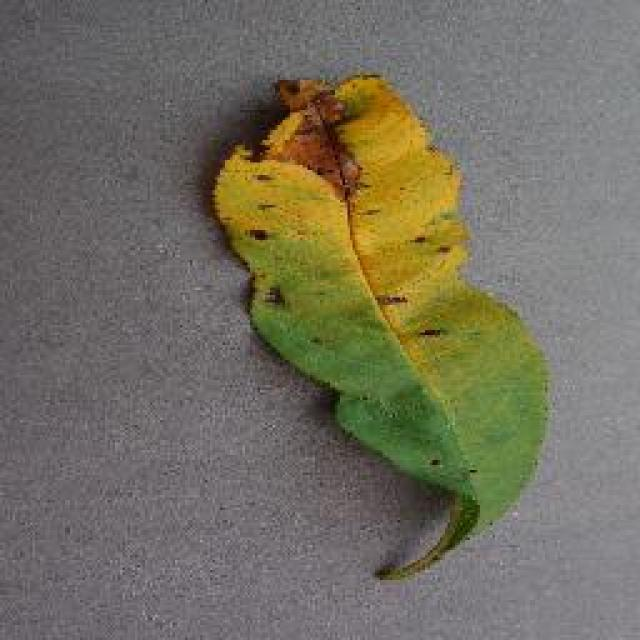Peach_Bacterial_Spot: (250, 54, 440, 294)
